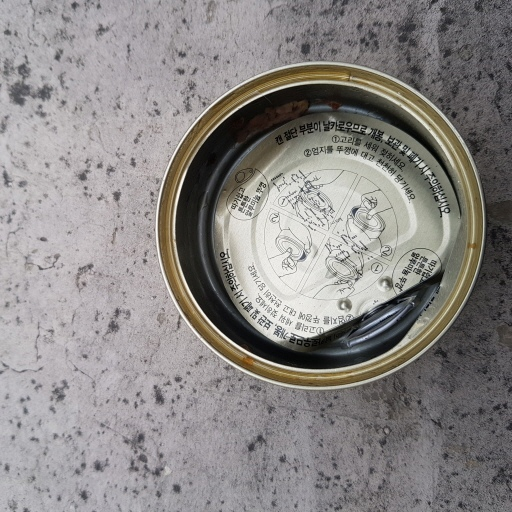Metal_1: (157, 60, 490, 392)
